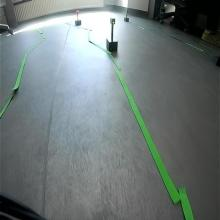green: (110, 17, 116, 24)
